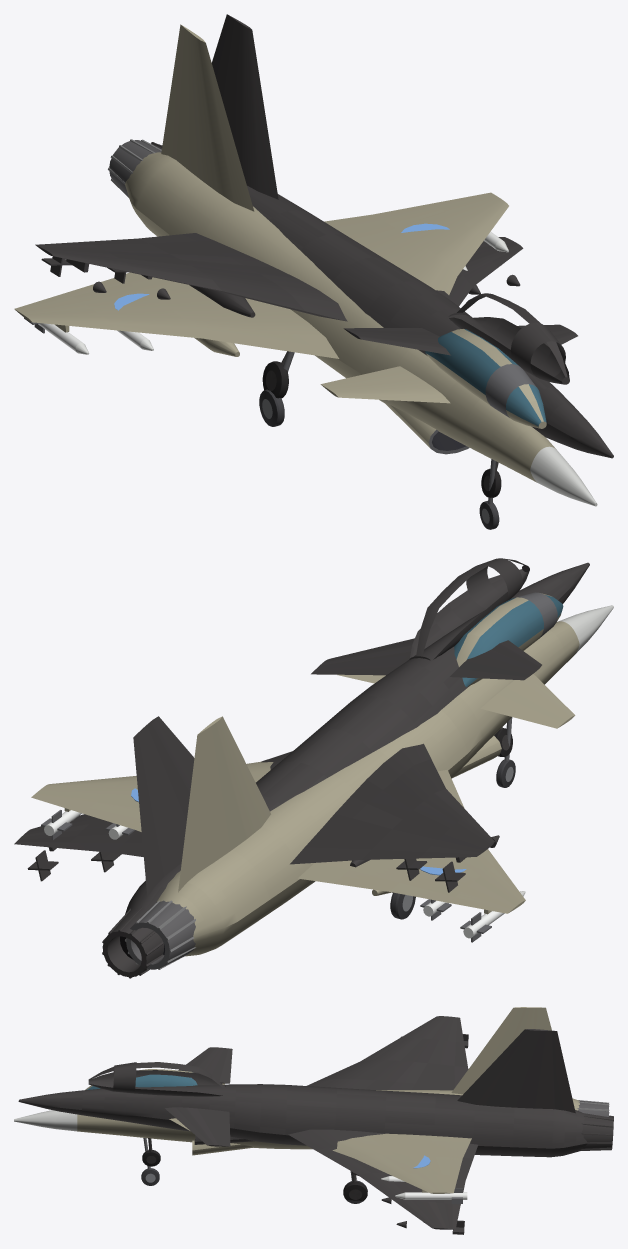
The model's file is jet__j_10c_jf_17_f_16.glb.
3 renders of one model, top to bottom at view 1: azimuth 30°, elevation 25°; view 2: azimuth 150°, elevation 25°; view 3: azimuth 270°, elevation 25°, orthographic. The views are drawn at different scales.
Parts seen in each view (by area): view 1: Fuselage_Mesh, Wreck; view 2: Fuselage_Mesh, Wreck; view 3: Wreck, Fuselage_Mesh.
Part boxes in pixels (x1,y1,x2,y2): Fuselage_Mesh: (14, 24, 597, 529); Wreck: (35, 14, 613, 497); Fuselage_Mesh: (31, 592, 613, 970); Wreck: (14, 558, 589, 978); Wreck: (18, 1016, 613, 1234); Fuselage_Mesh: (14, 1007, 609, 1203).
Size of what is drawn, in the model's own units: 10.07 by 5.43 by 16.6.
